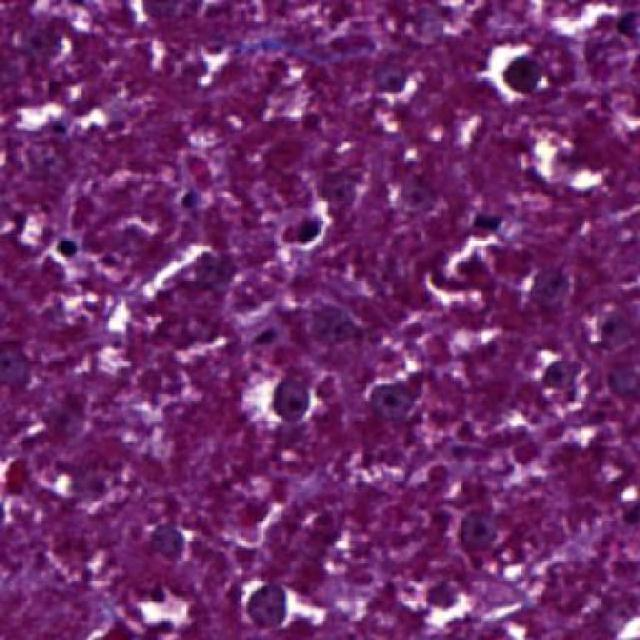inflammation: (226, 577, 325, 640), (488, 29, 553, 105), (269, 192, 338, 260), (252, 366, 321, 433), (431, 232, 510, 286), (361, 374, 427, 424)
